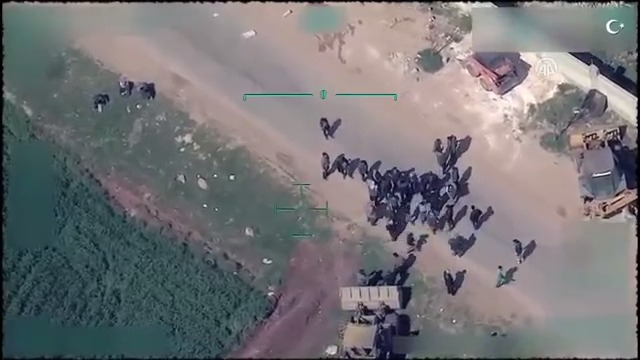insan: (510, 235, 529, 269), (319, 111, 338, 143), (442, 263, 461, 295), (467, 200, 485, 229), (318, 145, 332, 179), (494, 263, 508, 290)
